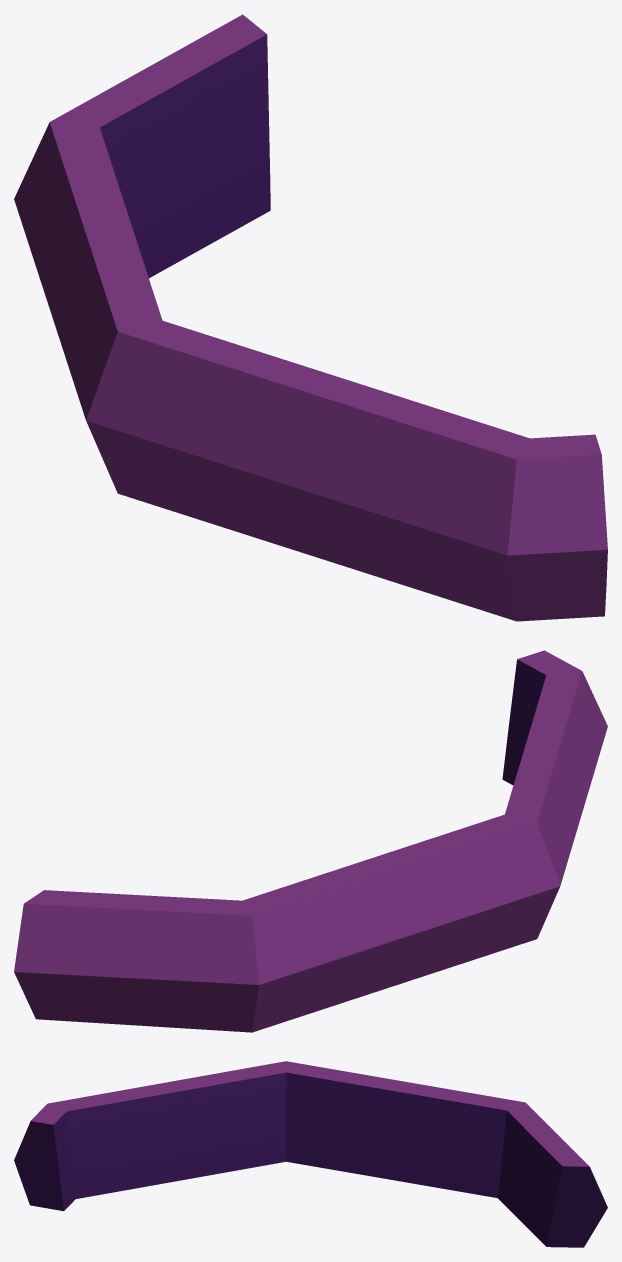
3 renders of one model, top to bottom at view 1: azimuth 30°, elevation 25°; view 2: azimuth 150°, elevation 25°; view 3: azimuth 270°, elevation 25°, orthographic. The views are drawn at different scales.
Parts seen in each view (by area): view 1: v_09; view 2: v_09; view 3: v_09.
Boxes of the visible parts, x1,y1,x2,y2 form: v_09: (14, 14, 607, 621); v_09: (14, 650, 607, 1032); v_09: (14, 1061, 607, 1247).
Size of the model in its own units: 0.2009 by 0.069 by 0.4435.
1 material, 1 textured.
